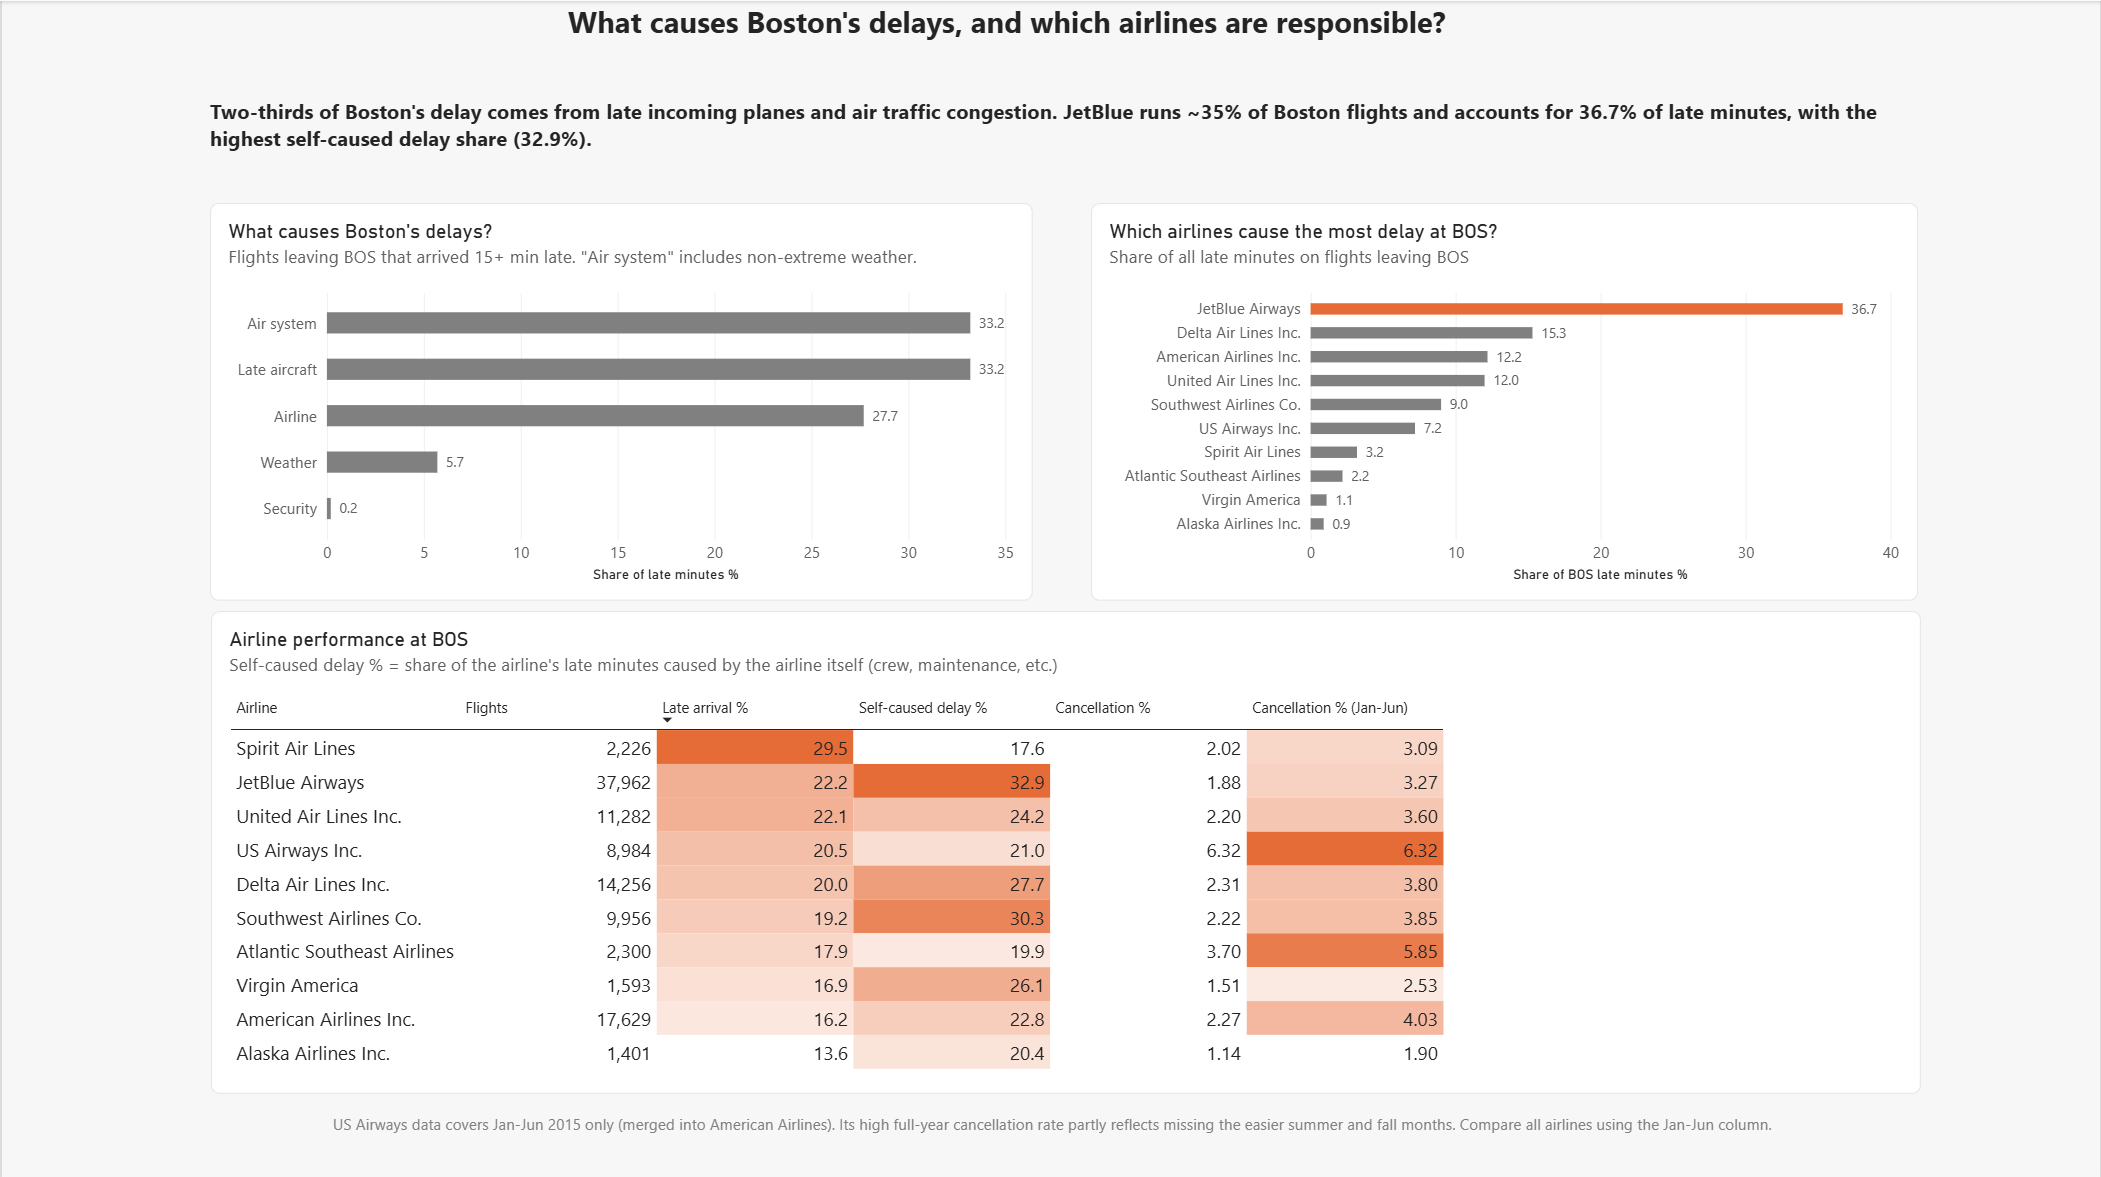

What the dashboard file says about the page in this screenshot:
{"tool":"powerbi","page":{"name":"Delay Causes & Airlines","canvas":[1920,1080],"ordinal":1},"visuals":[{"type":"textbox","box":[518.3,0,883.3,62.5],"z":0},{"type":"textbox","box":[190.3,88,1565,56.8],"z":1},{"type":"clusteredBarChart","title":"What causes Boston''s delays?","fields":{"Category":["public v_bos_delay_causes.cause"],"Y":["Sum(public v_bos_delay_causes.pct_of_delay_minutes)"]},"box":[139.4,206.1,756.8,305.3],"z":2},{"type":"clusteredBarChart","title":"Which airlines cause the most delay at BOS?","fields":{"Category":["public v_bos_airlines.airline"],"Y":["Sum(public v_bos_airlines.share_of_bos_late_minutes)"]},"box":[1043.4,184.5,756.8,364.2],"z":3},{"type":"tableEx","title":"Airline performance at BOS","fields":{"Values":["public v_bos_airlines.airline","Sum(public v_bos_airlines.scheduled_flights)","Sum(public v_bos_airlines.late_arrival_pct)","Sum(public v_bos_airlines.self_caused_pct)","Sum(public v_bos_airlines.cancellation_pct)","Sum(public v_bos_airlines.jan_jun_cancellation_pct)"]},"box":[589.9,581.1,765.6,402.5],"z":4},{"type":"textbox","box":[589.9,1004.2,765.6,49.1],"z":5}]}

Visuals, with their boxes in screenshot pixels (x1, y1, x2, y2), scaled from the page's 1920x1080 canvas onto the 2101x1177 screenshot:
textbox: detection(567, 0, 1534, 68)
textbox: detection(208, 96, 1921, 158)
"What causes Boston''s delays?" clusteredBarChart: detection(153, 225, 981, 557)
"Which airlines cause the most delay at BOS?" clusteredBarChart: detection(1142, 201, 1970, 598)
"Airline performance at BOS" tableEx: detection(646, 633, 1483, 1072)
textbox: detection(646, 1094, 1483, 1148)
